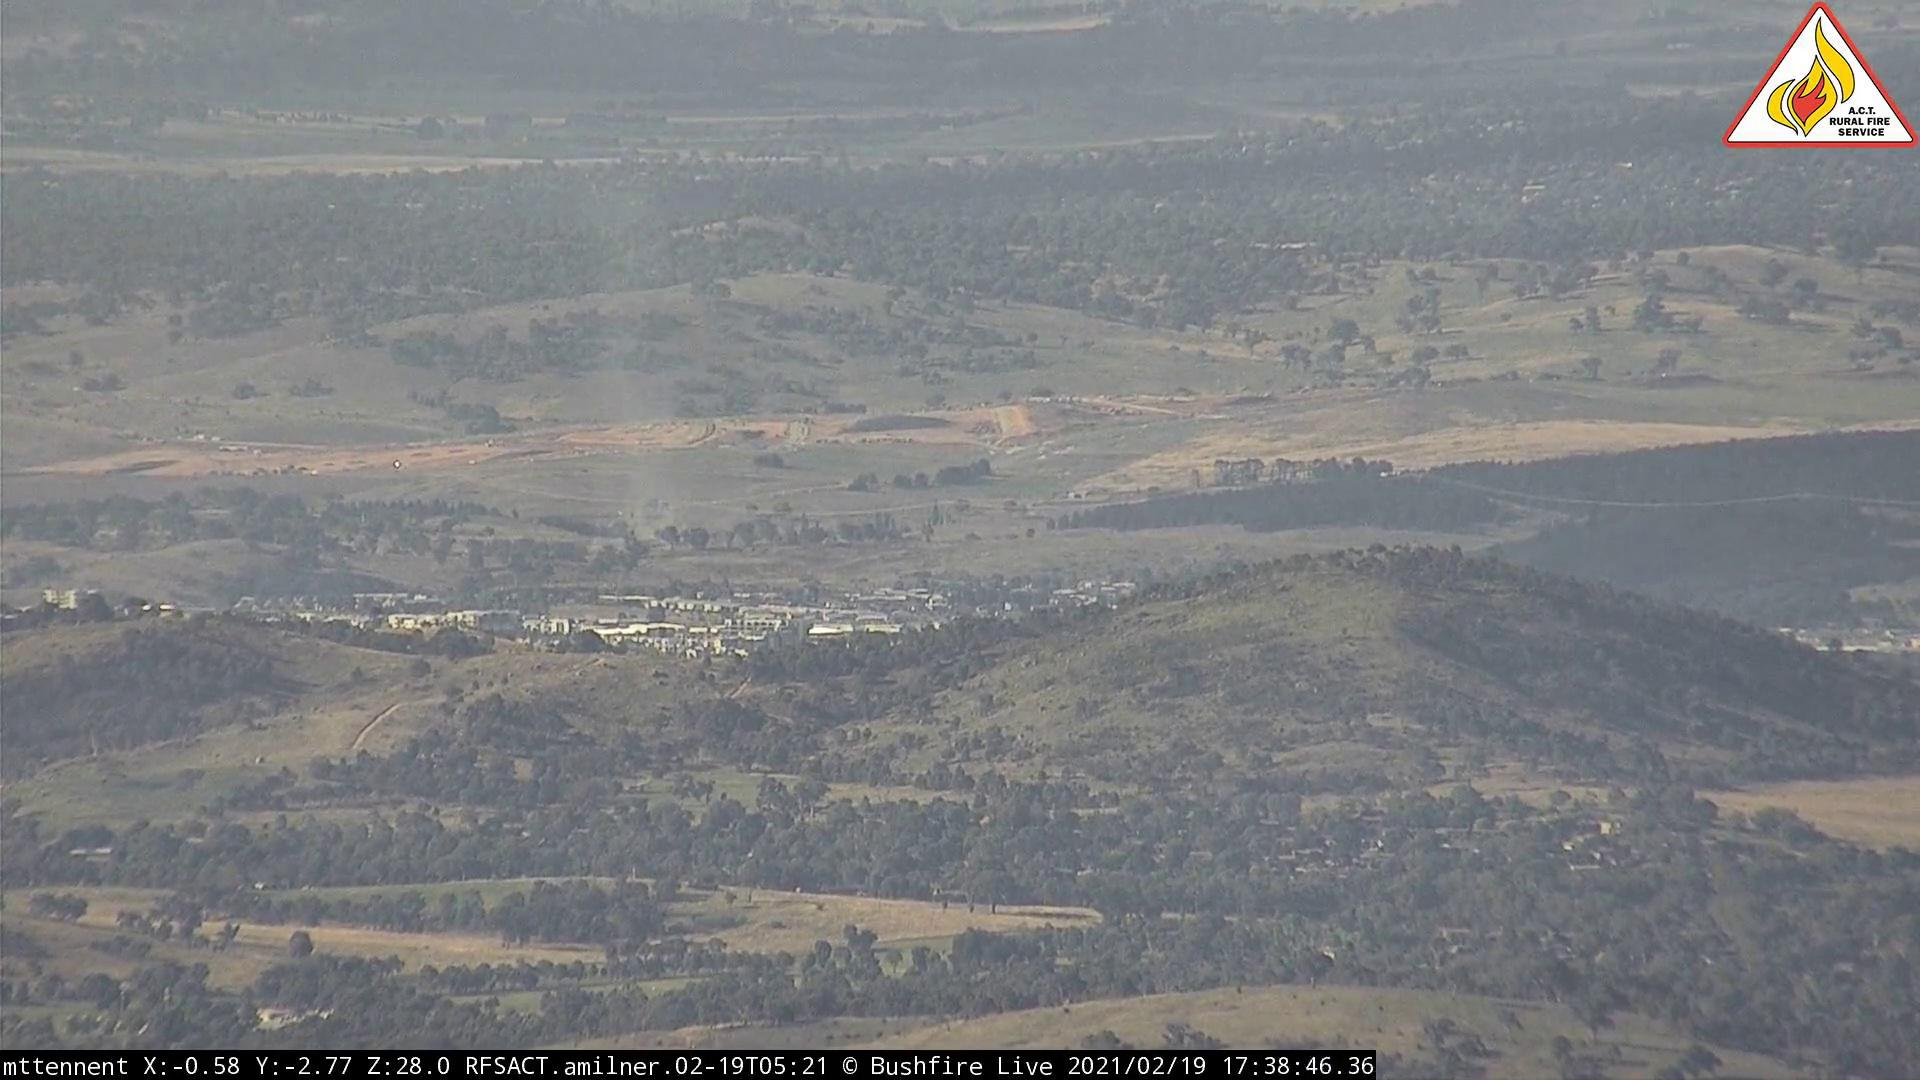instance_salient_object: (587, 476, 698, 549), (823, 502, 852, 549)
